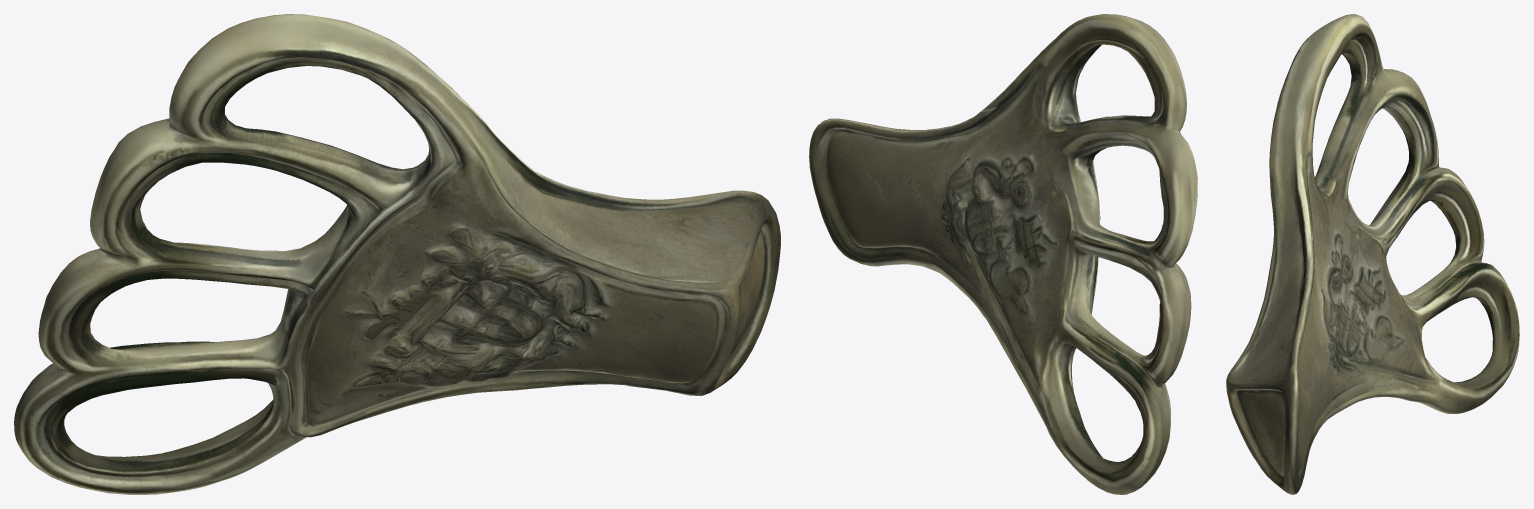
Rendered from weapon_knuckleduster.glb.
3 renders of one model, left to right at view 1: azimuth 30°, elevation 25°; view 2: azimuth 150°, elevation 25°; view 3: azimuth 270°, elevation 25°, orthographic. The views are drawn at different scales.
Size of the model in its own units: 0.0686 by 0.057 by 0.0381.
1 material, 1 textured.
